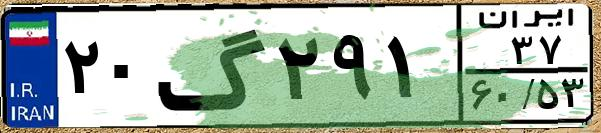0: (110, 28, 156, 98), (495, 70, 520, 125)
1: (385, 28, 445, 110)
2: (270, 28, 330, 110), (57, 26, 110, 100)
3: (560, 70, 590, 125), (508, 27, 537, 80)
5: (535, 70, 560, 125)
6: (470, 70, 495, 125)
7: (537, 27, 568, 80)
9: (330, 28, 385, 110)
گ: (156, 12, 270, 120)
